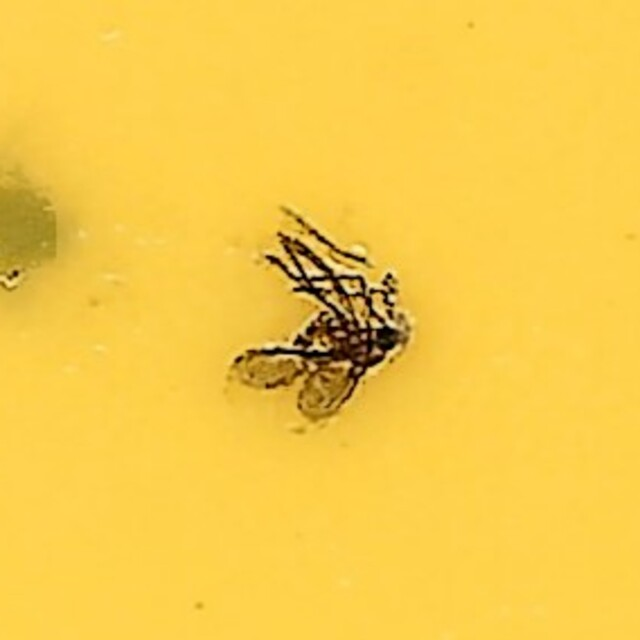Nematocera: (225, 215, 415, 425)
